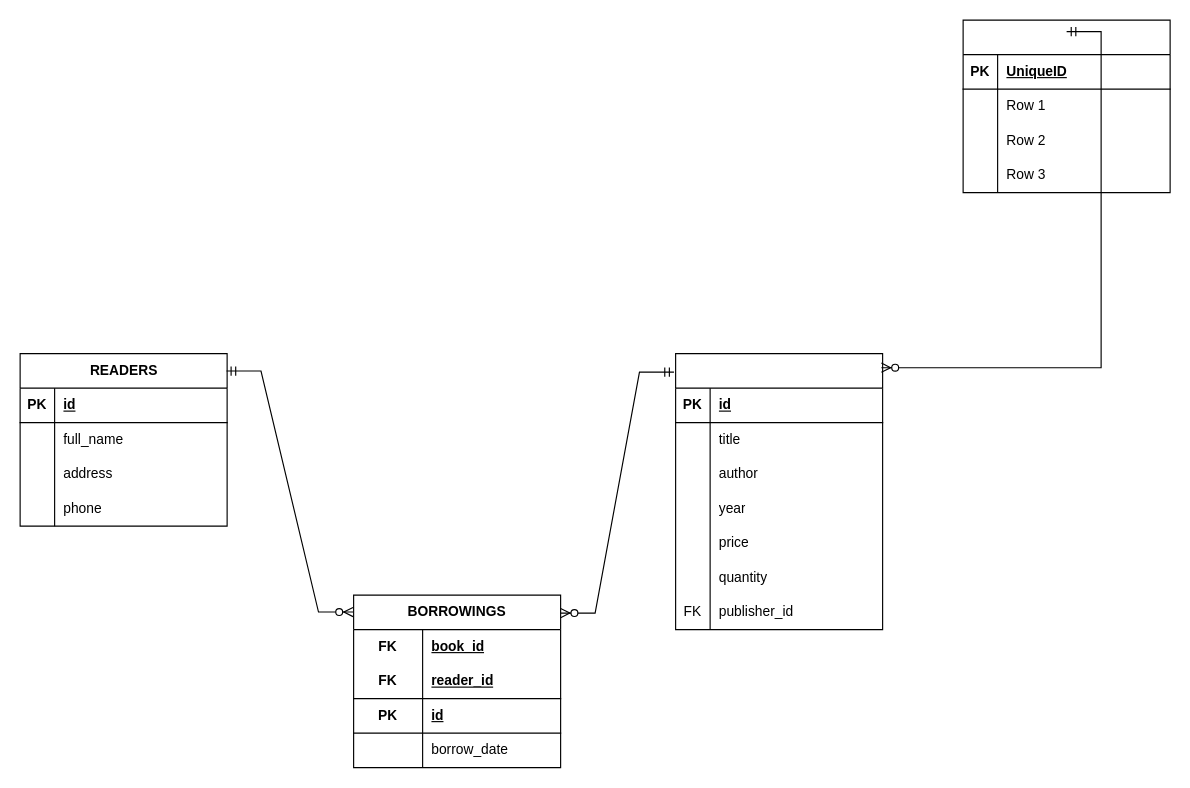
Some shapes in this 1190 by 788 pixel diagram are drawn without their labels. The box of each missing label's shape, as (x1, y1, x2, y2) in pixels:
BOOKS: (674, 352, 883, 630)
PUBLISHERS: (962, 19, 1170, 193)
